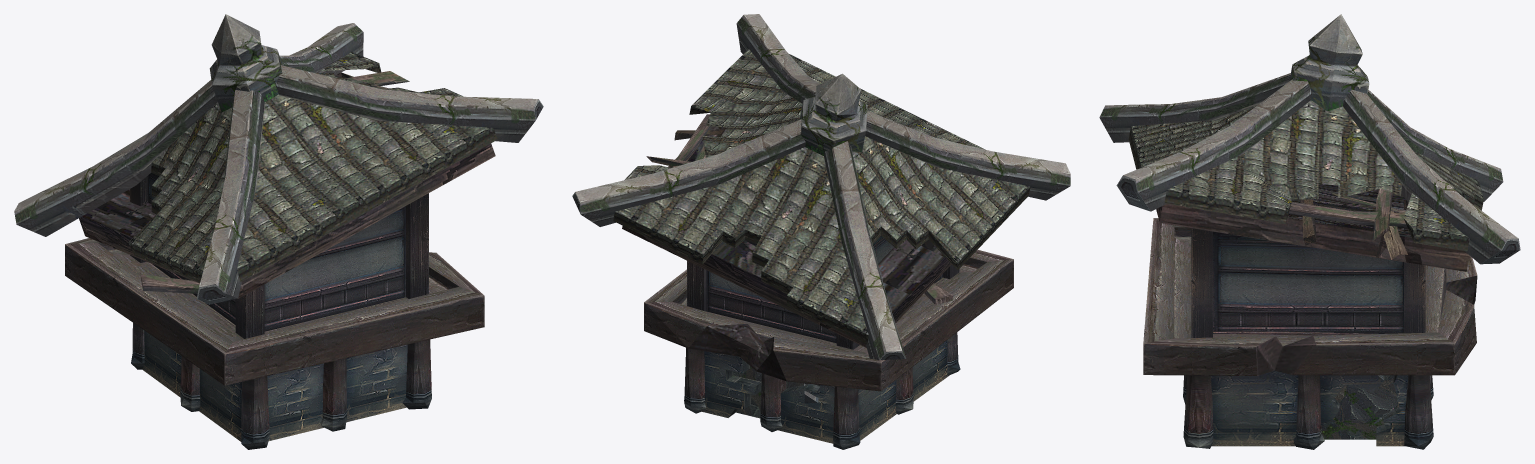
File: Item_1.FBX
3 views of the same model, side by side, from view 1: azimuth 30°, elevation 25°; view 2: azimuth 150°, elevation 25°; view 3: azimuth 270°, elevation 25° (orthographic). The views are drawn at different scales.
Parts seen in each view (by area): view 1: Item_1; view 2: Item_1; view 3: Item_1.
Boxes of the visible parts, x1,y1,x2,y2 form: Item_1: [14, 14, 543, 449]; Item_1: [572, 14, 1070, 449]; Item_1: [1099, 14, 1520, 449].
Size of the model in its own units: 343 by 339 by 349.
